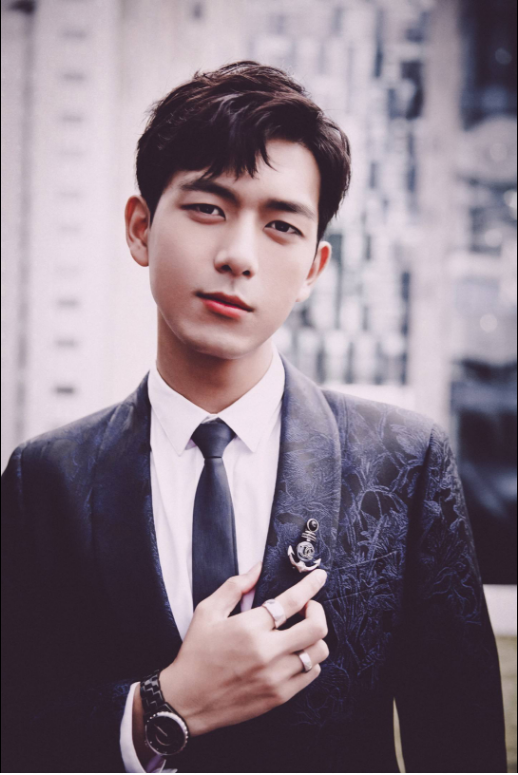person: (87, 85, 462, 775)
